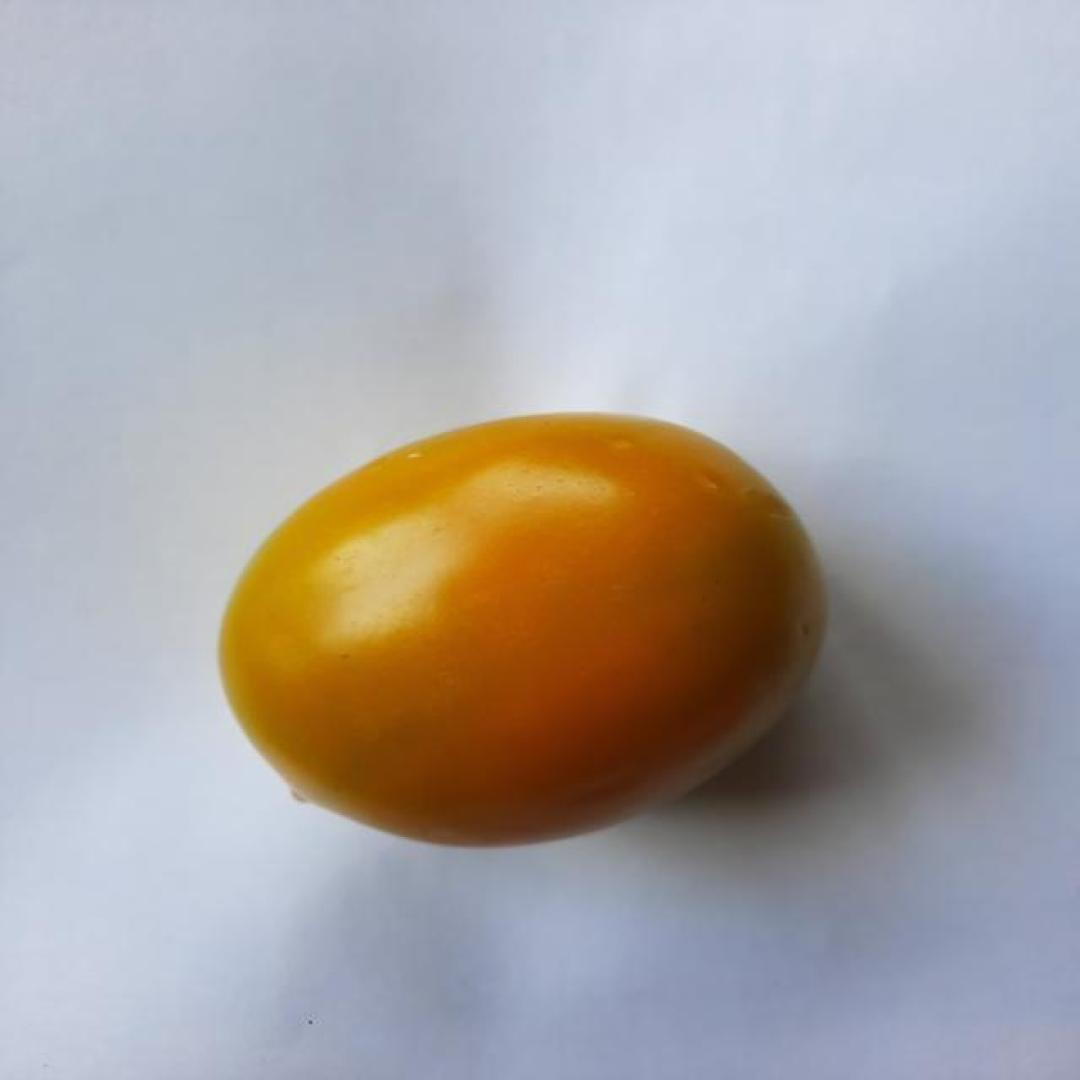setengah_matang: (211, 408, 832, 852)
